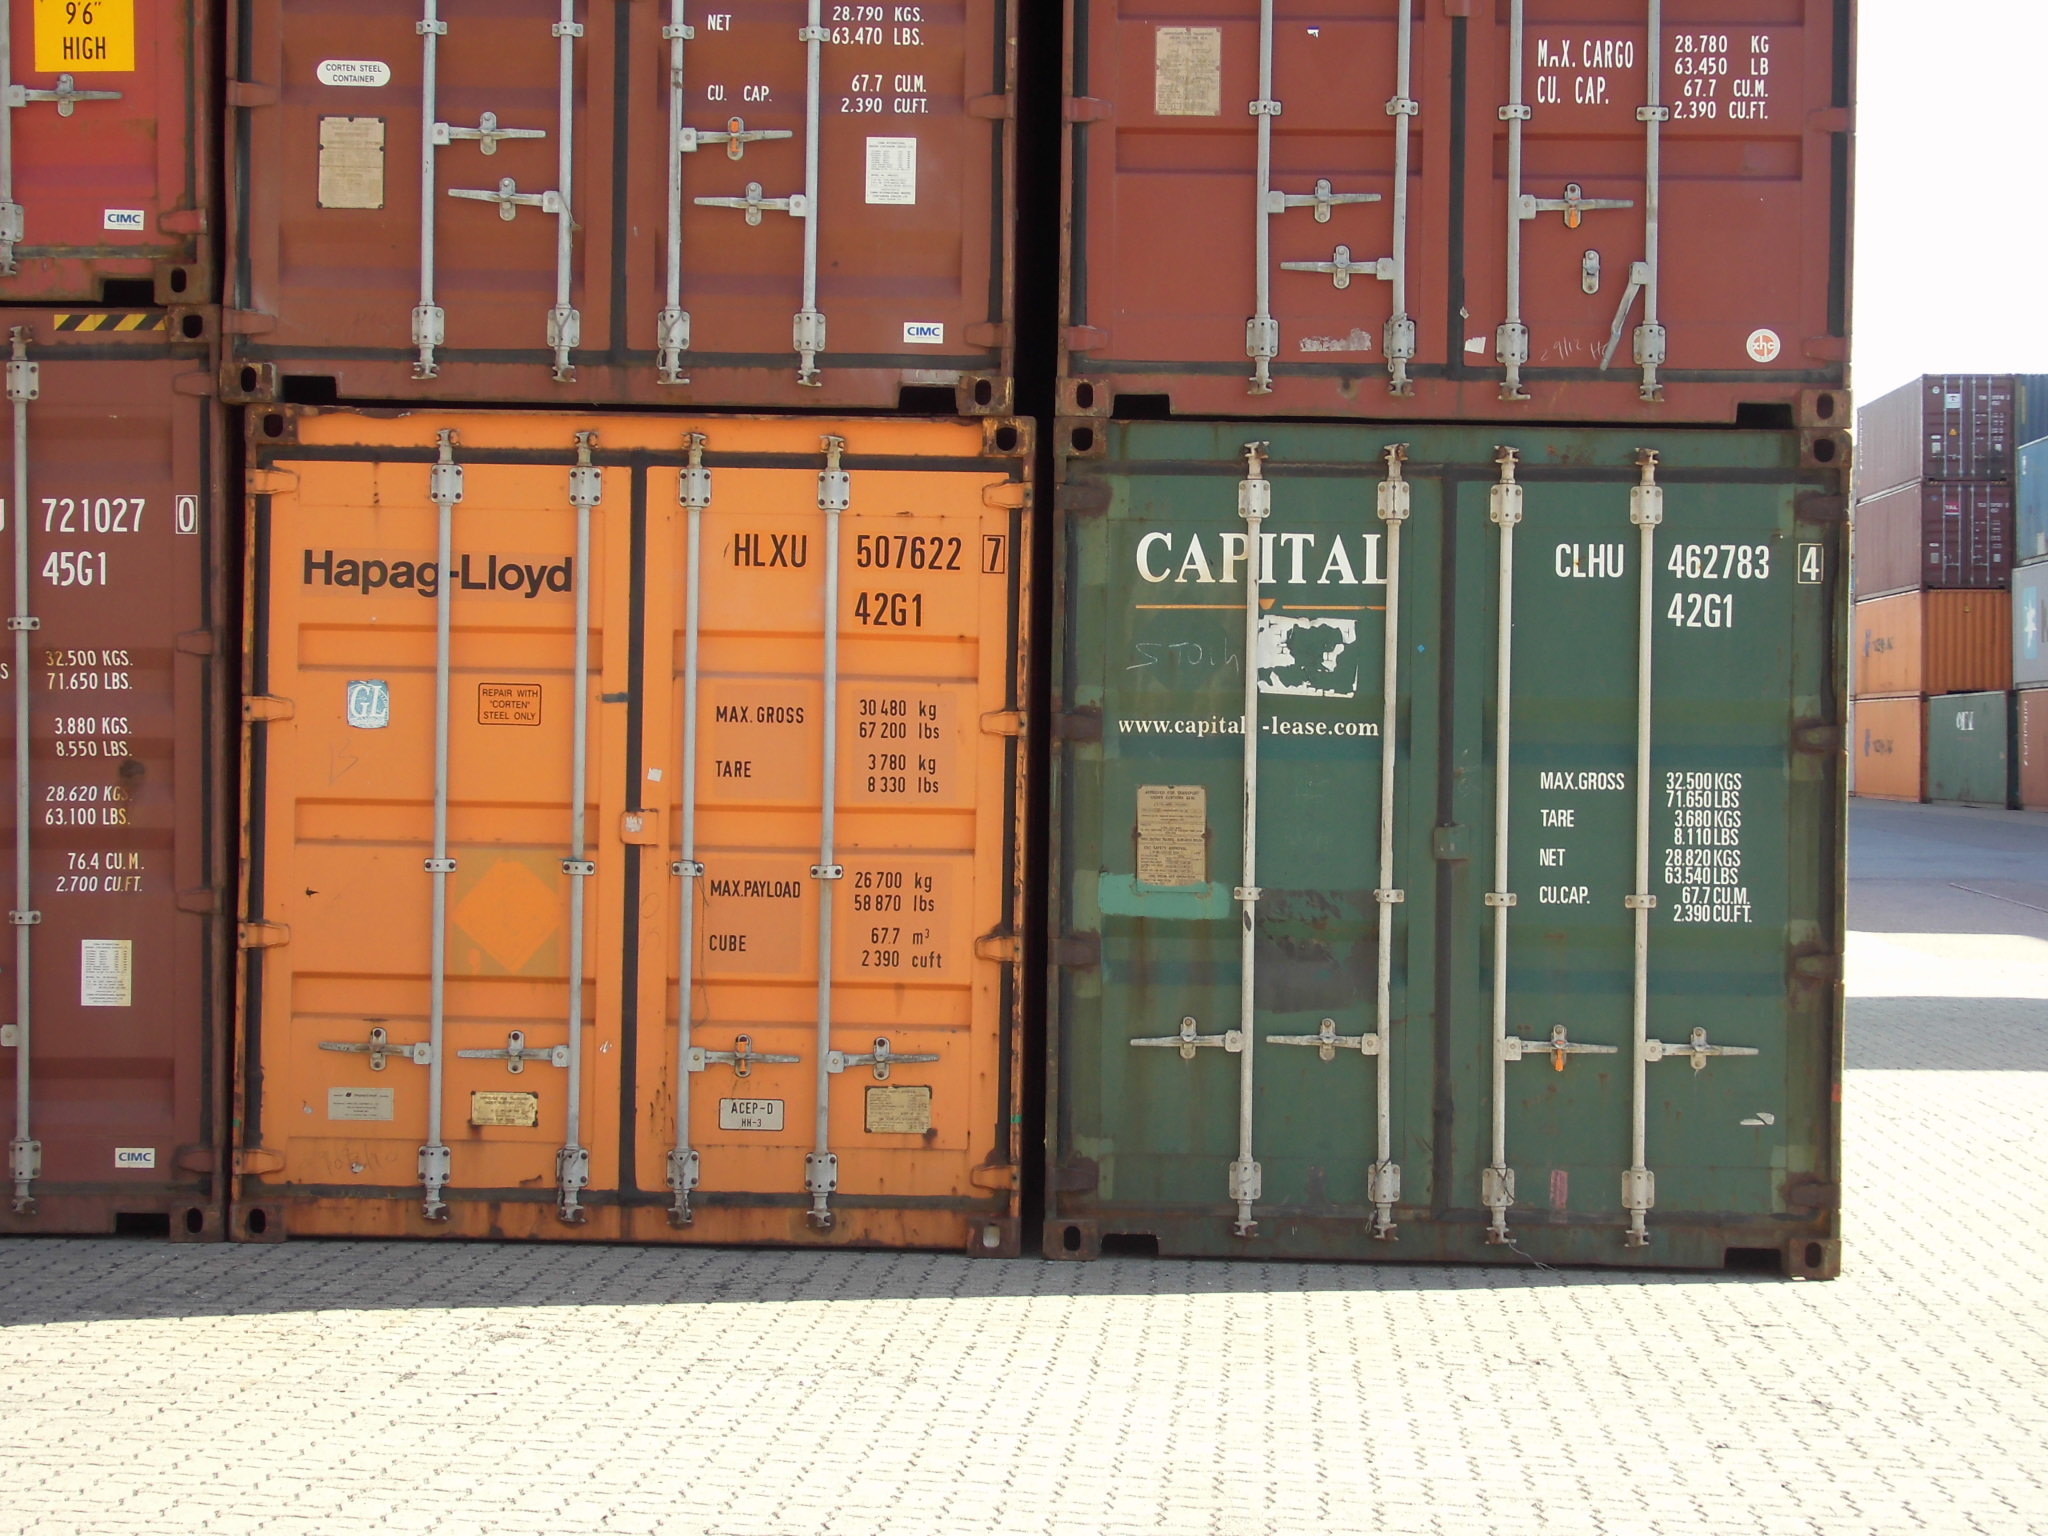container_door: (1061, 431, 1853, 1279), (247, 402, 1016, 1246), (1072, 6, 1843, 395), (235, 5, 1005, 394)
